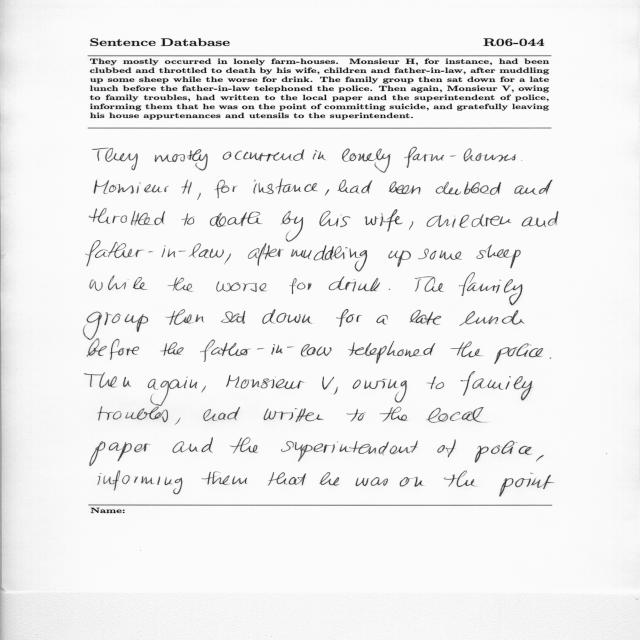word: (86, 241, 224, 267), (200, 339, 332, 362), (281, 441, 418, 462), (460, 372, 533, 401), (291, 245, 367, 272), (459, 273, 523, 305), (98, 471, 182, 494), (348, 341, 435, 363), (84, 311, 149, 340), (405, 147, 483, 168), (90, 441, 150, 466), (148, 377, 198, 406), (89, 208, 165, 226), (499, 473, 554, 497), (475, 441, 532, 463), (353, 379, 407, 402), (342, 149, 391, 173), (427, 214, 511, 228), (155, 149, 208, 171), (87, 338, 139, 360), (226, 375, 304, 389), (459, 310, 525, 326), (94, 180, 169, 194), (98, 407, 168, 422), (476, 245, 521, 268), (494, 343, 543, 364), (93, 148, 138, 170), (223, 150, 305, 162), (253, 179, 318, 194), (426, 407, 485, 423), (90, 275, 147, 291), (365, 209, 403, 232), (436, 182, 501, 195), (264, 408, 324, 422), (248, 243, 284, 266), (329, 276, 380, 292), (210, 212, 262, 227), (262, 309, 312, 324), (85, 372, 131, 388), (281, 211, 303, 242), (172, 438, 213, 453), (166, 309, 204, 325), (202, 472, 247, 485), (522, 211, 558, 227), (515, 180, 553, 195), (216, 281, 267, 292), (268, 472, 306, 486), (444, 471, 477, 487), (203, 407, 240, 421), (450, 342, 482, 358), (320, 211, 351, 227), (338, 180, 373, 194), (418, 249, 462, 260), (336, 309, 362, 327), (410, 310, 441, 325), (415, 276, 444, 292), (230, 438, 258, 454), (380, 407, 408, 422), (389, 182, 421, 195), (215, 180, 238, 198), (388, 250, 411, 267), (168, 277, 193, 292), (290, 278, 312, 294), (437, 440, 456, 458), (160, 342, 184, 356), (221, 311, 245, 324), (356, 477, 388, 486), (320, 472, 340, 486), (483, 154, 516, 162), (346, 409, 365, 422), (400, 477, 424, 487), (426, 376, 444, 389), (182, 213, 195, 226), (181, 179, 192, 194), (323, 377, 335, 390), (313, 150, 326, 160), (376, 315, 388, 325), (224, 253, 231, 264), (536, 455, 544, 462), (175, 418, 181, 425), (333, 387, 338, 395), (409, 221, 413, 230), (201, 386, 206, 393), (197, 193, 201, 200), (325, 189, 329, 196), (550, 357, 552, 359), (389, 289, 390, 290)
